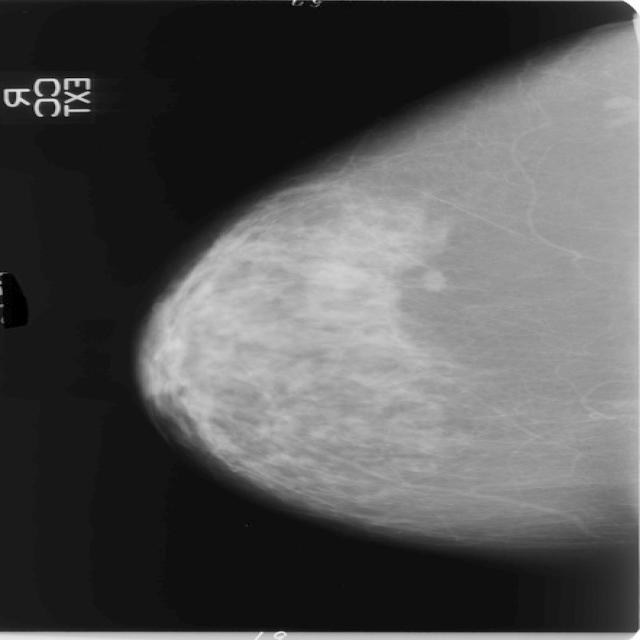tumour: (418, 268, 444, 292)
